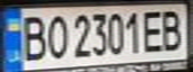0: (106, 9, 127, 56)
1: (121, 8, 145, 54)
2: (69, 10, 93, 60)
3: (90, 9, 109, 57)
B: (15, 11, 48, 62), (157, 7, 187, 52)
E: (139, 7, 169, 53)
O: (42, 11, 69, 61)
